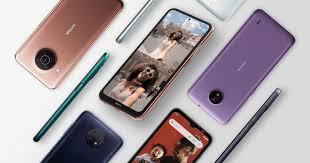Smartphone: (102, 10, 202, 112), (187, 29, 300, 108), (13, 0, 115, 75), (37, 49, 108, 144), (114, 0, 161, 46), (212, 123, 214, 124)
